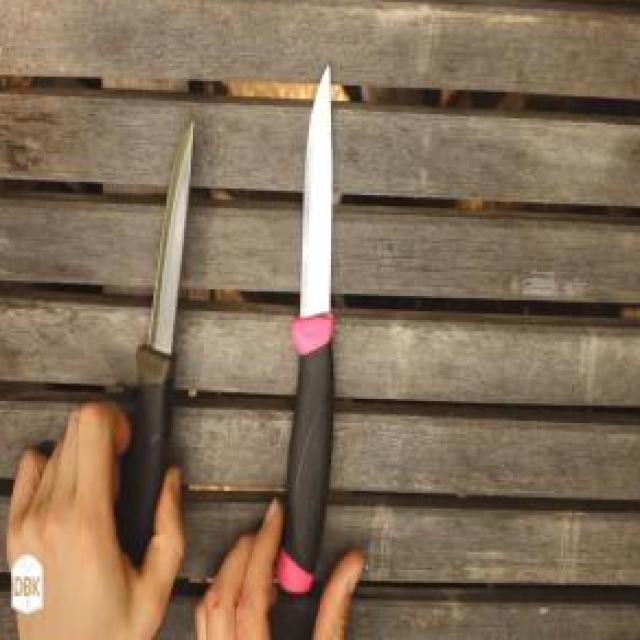knife: (88, 107, 198, 520), (287, 58, 344, 397)
